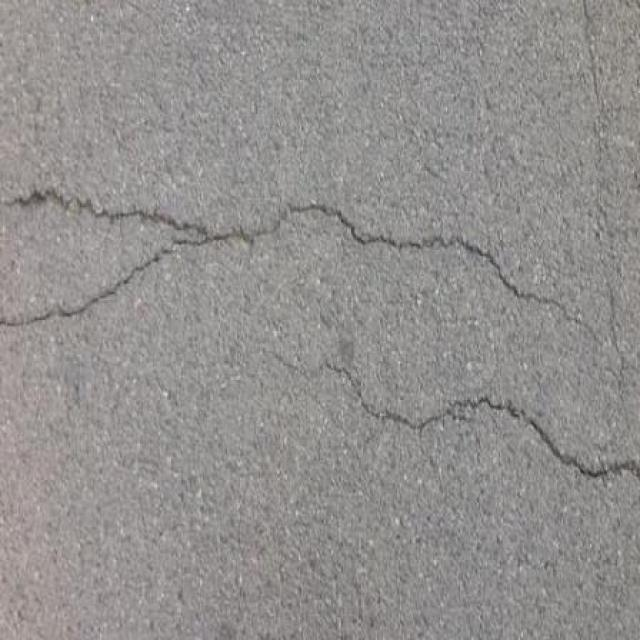Crack: (2, 189, 601, 344), (269, 352, 640, 479), (606, 278, 631, 433), (585, 2, 601, 107)
